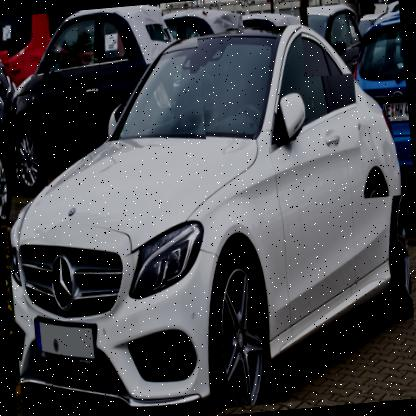Car: (0, 17, 415, 415), (5, 0, 210, 190), (348, 11, 415, 200), (0, 11, 102, 96), (300, 3, 370, 79), (0, 71, 30, 224), (162, 3, 244, 40)
